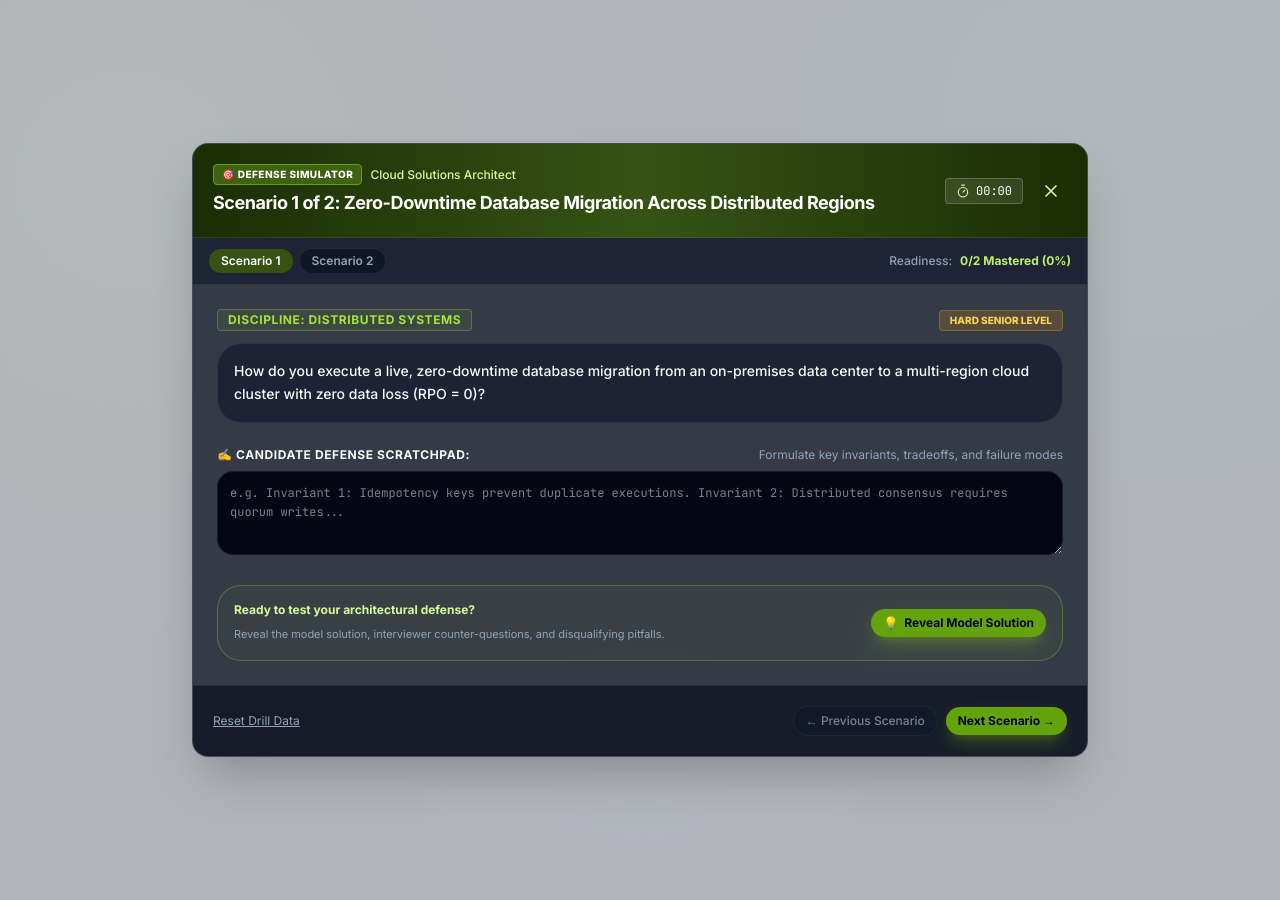
Test: RoleInterviewDrillModal Component › reveals model solution, counter-probes, and pitfalls upon clicking reveal button
Expected: the text "Model Architectural Solution:" is not shown
// Click Reveal Model Solution
Click the button "💡 Reveal Model Solution".
click(959, 623)  # box [871,609,1046,637]
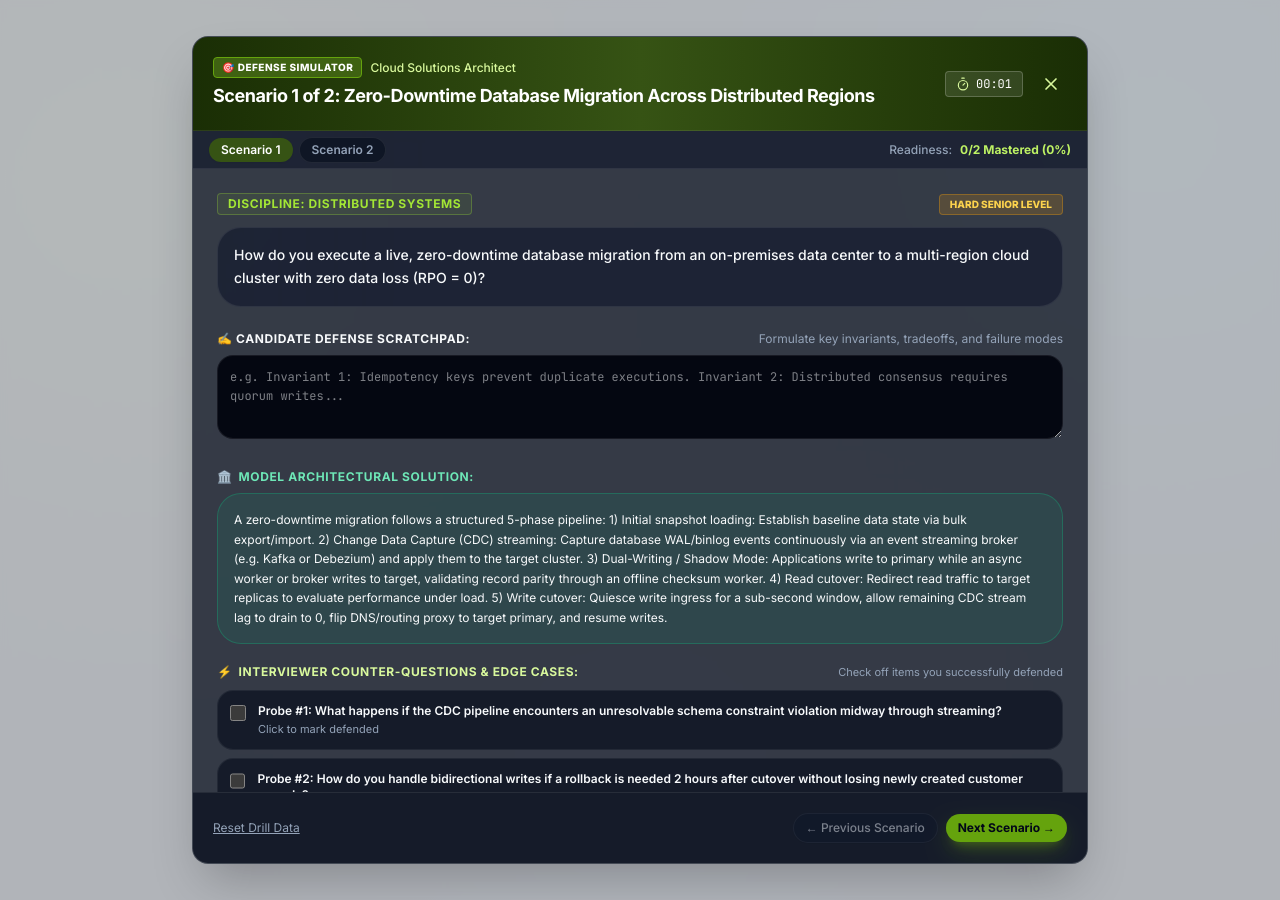
Expected: the text "🏛️ Model Architectural Solution:" is shown, [217,469,474,484]
Expected: the text "⚡ Interviewer Counter-Questions & Edge Cases:" is shown, [217,664,579,680]
